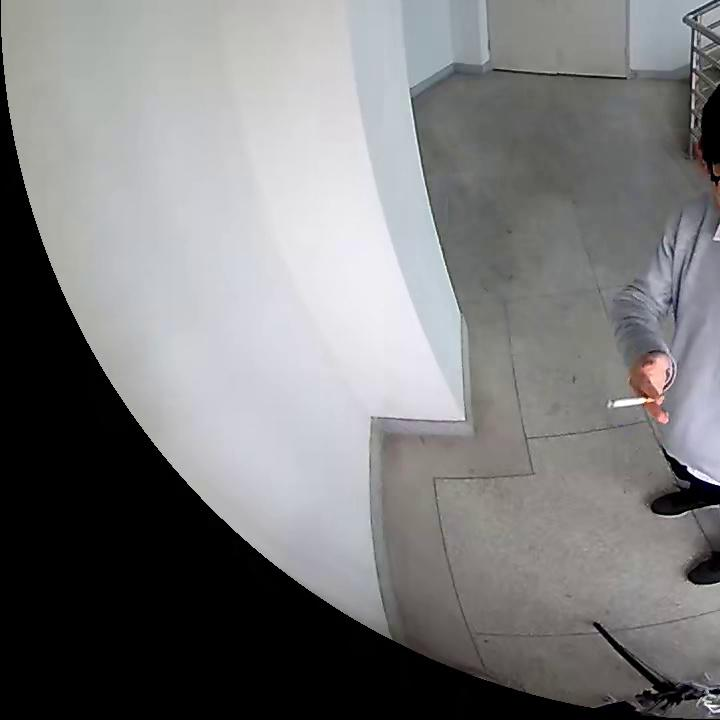handsmoke: (605, 357, 671, 424)
